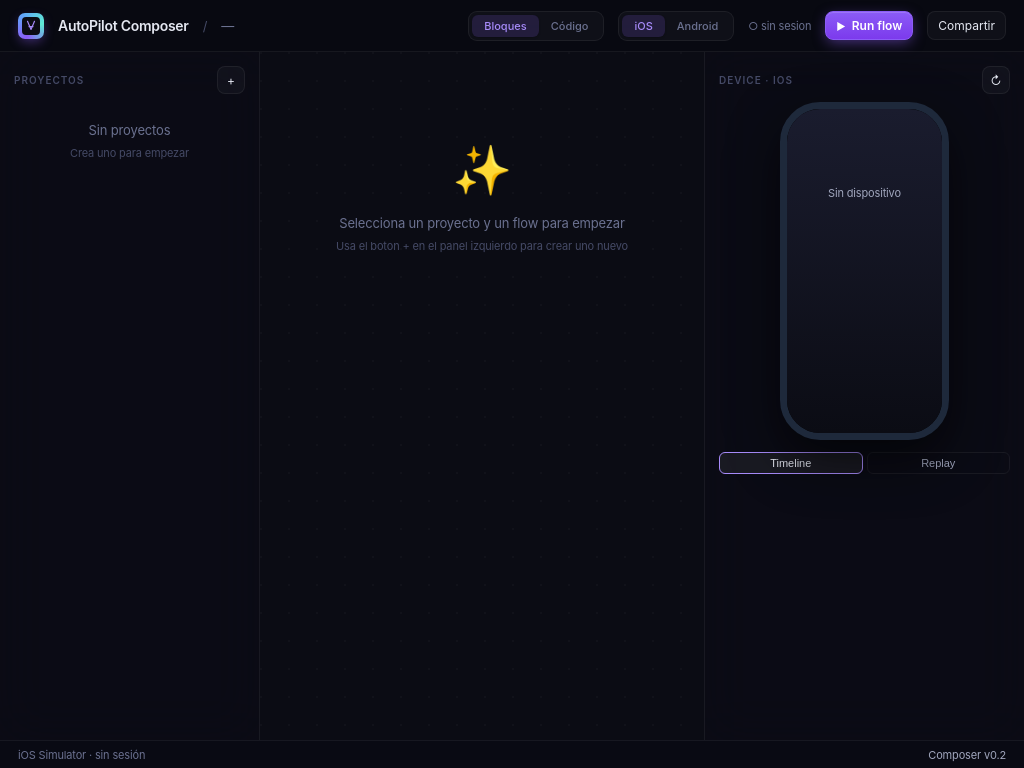
Test: AppShell › platform toggle switches label
Click the button "Android": coordinates (698, 26) 665,14 -> 730,36
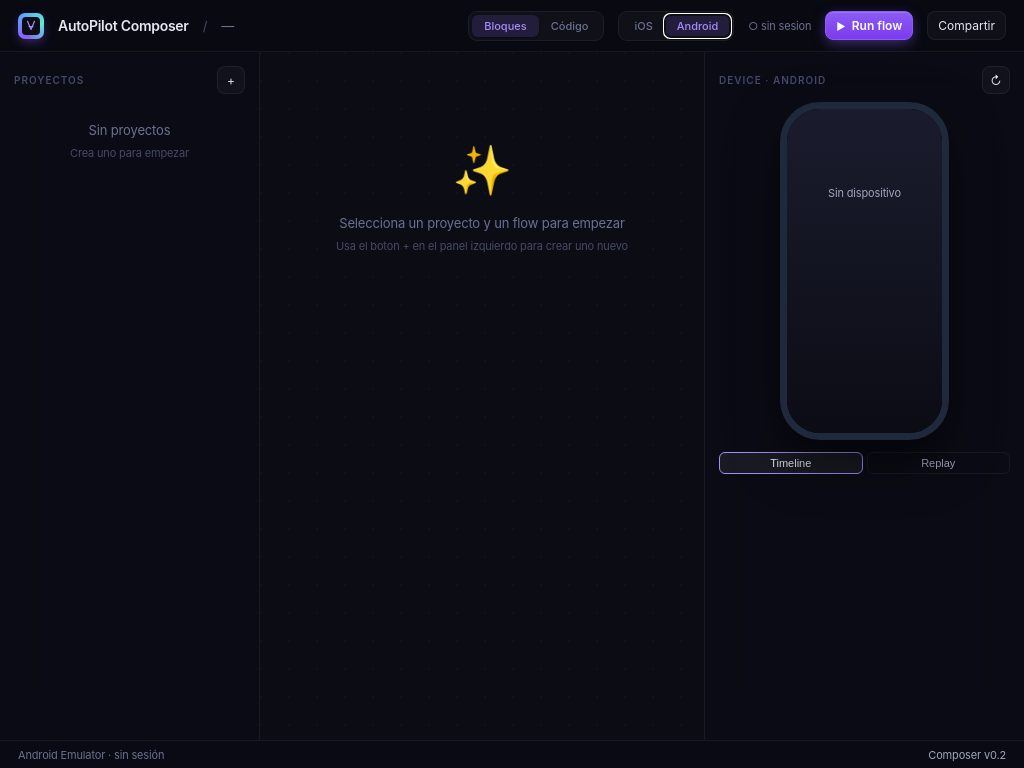
Check: the element with test id "status-text" shows "Android", box 18,748 -> 105,762
